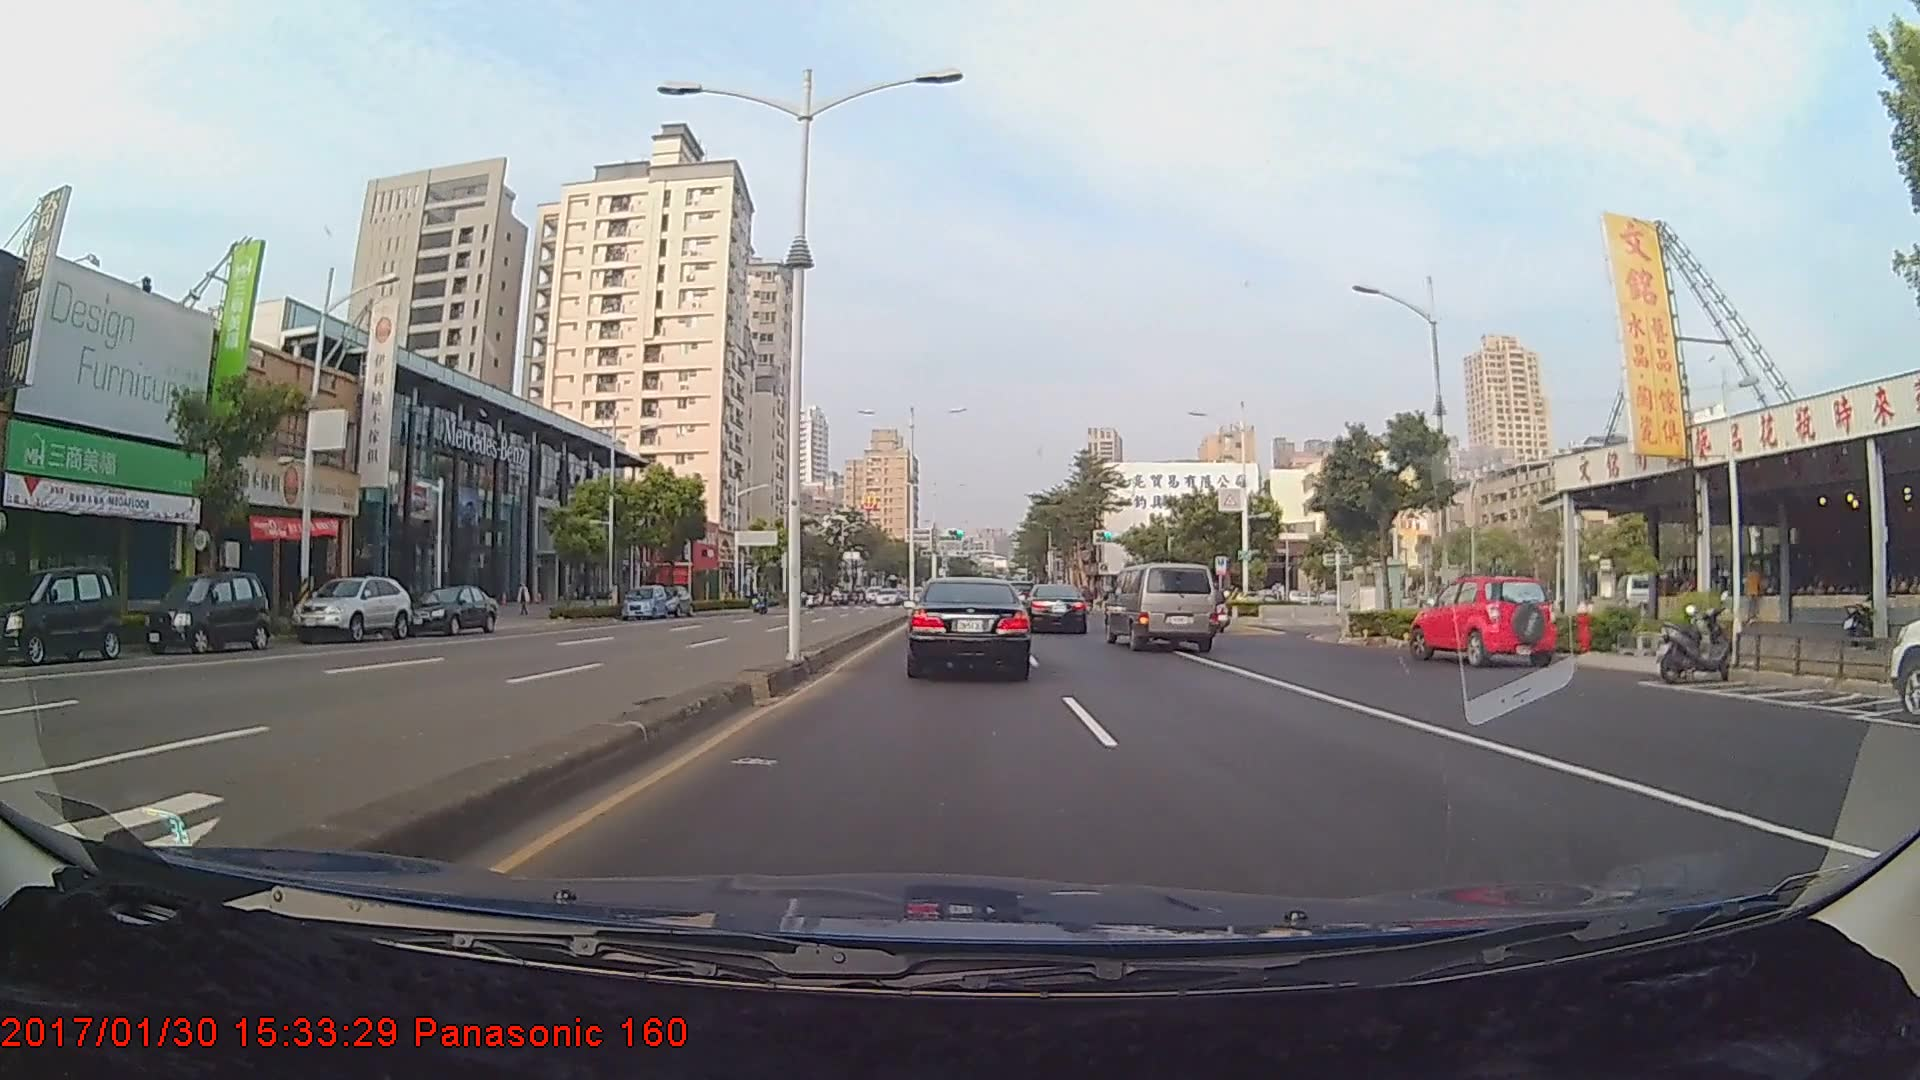pedestrian: (1745, 560, 1769, 632)
vehicle: (904, 574, 1032, 680), (0, 563, 127, 667), (1418, 574, 1552, 669), (1103, 563, 1218, 652), (296, 576, 413, 644), (187, 573, 269, 652), (406, 582, 495, 635), (1024, 582, 1089, 635), (621, 582, 668, 620), (652, 584, 694, 617)
